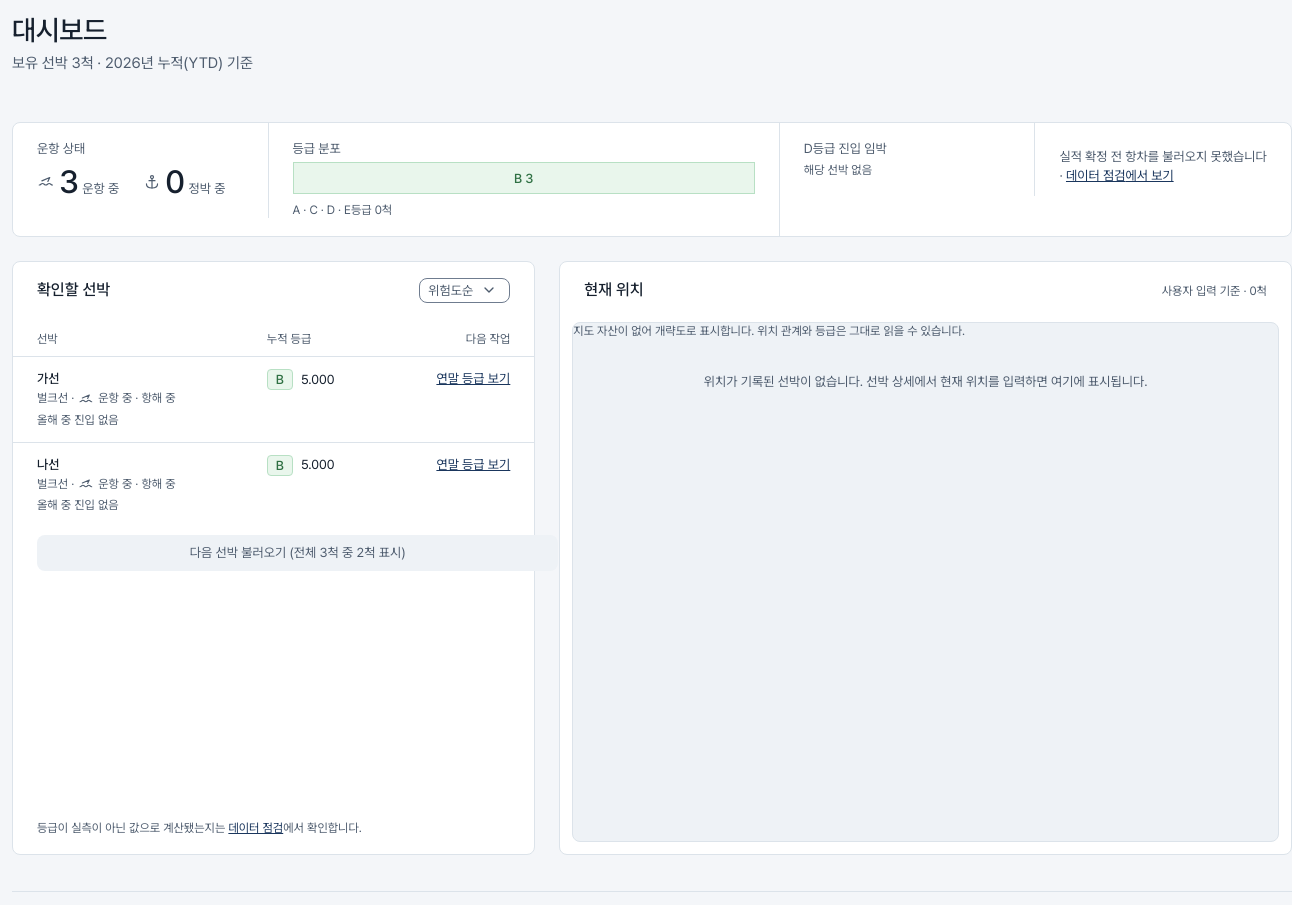
정렬 변경 · 추가 조회 경합 (#1092) › ⓐ 정렬을 바꿔 첫 페이지를 다시 받는 동안 「다음 선박」이 잠긴다
Expected: the button "다음 선박 불러오기 (전체 3척 중 2척 표시)" is enabled, [37,535,558,571]
Select "이름순" in the dropdown with test id "fleet-sort" at (465, 290), box [419,278,510,303]
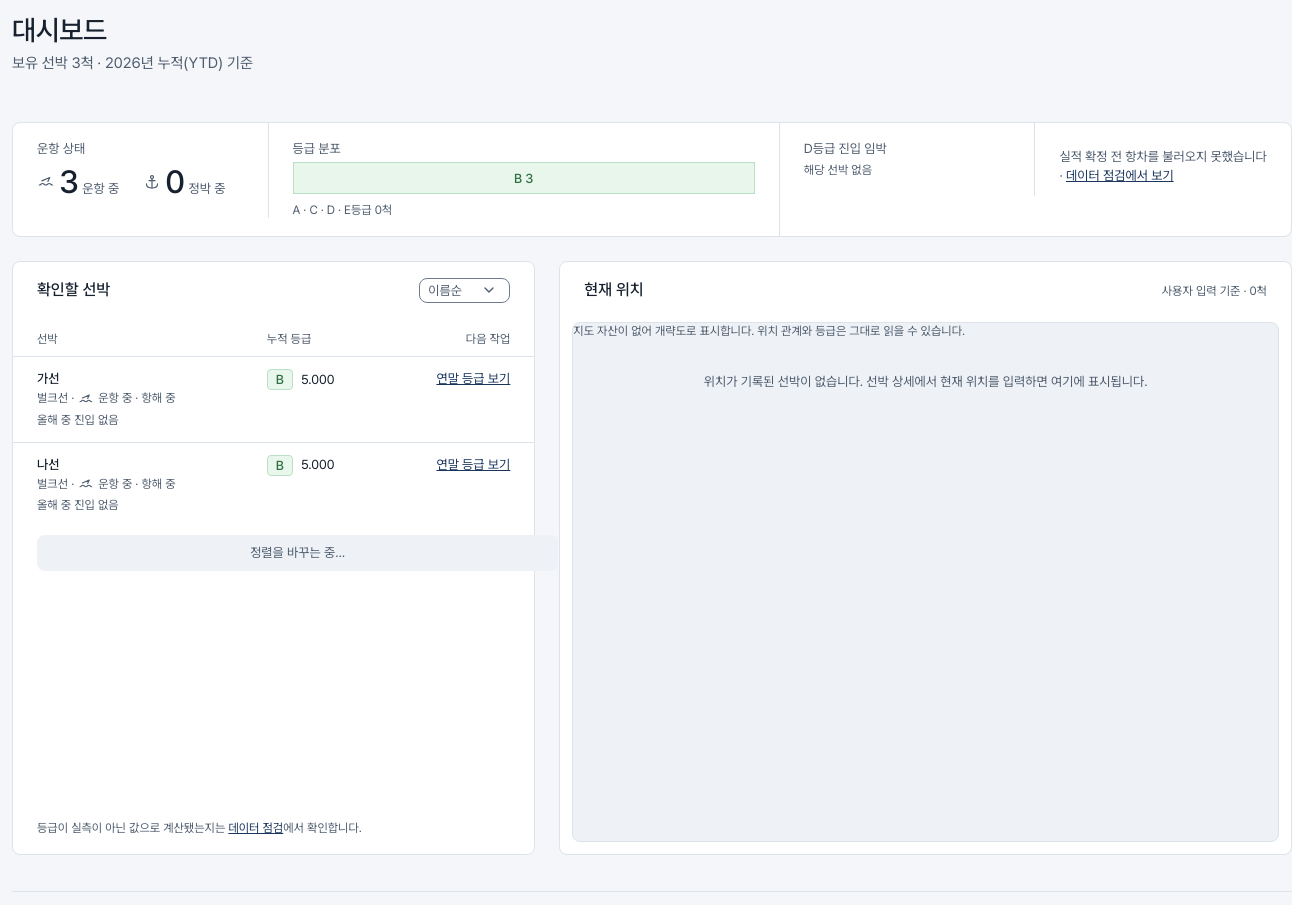
Expected: the button "정렬을 바꾸는 중…" is disabled
Click the button "정렬을 바꾸는 중…" at (298, 553), box [37,535,558,571]
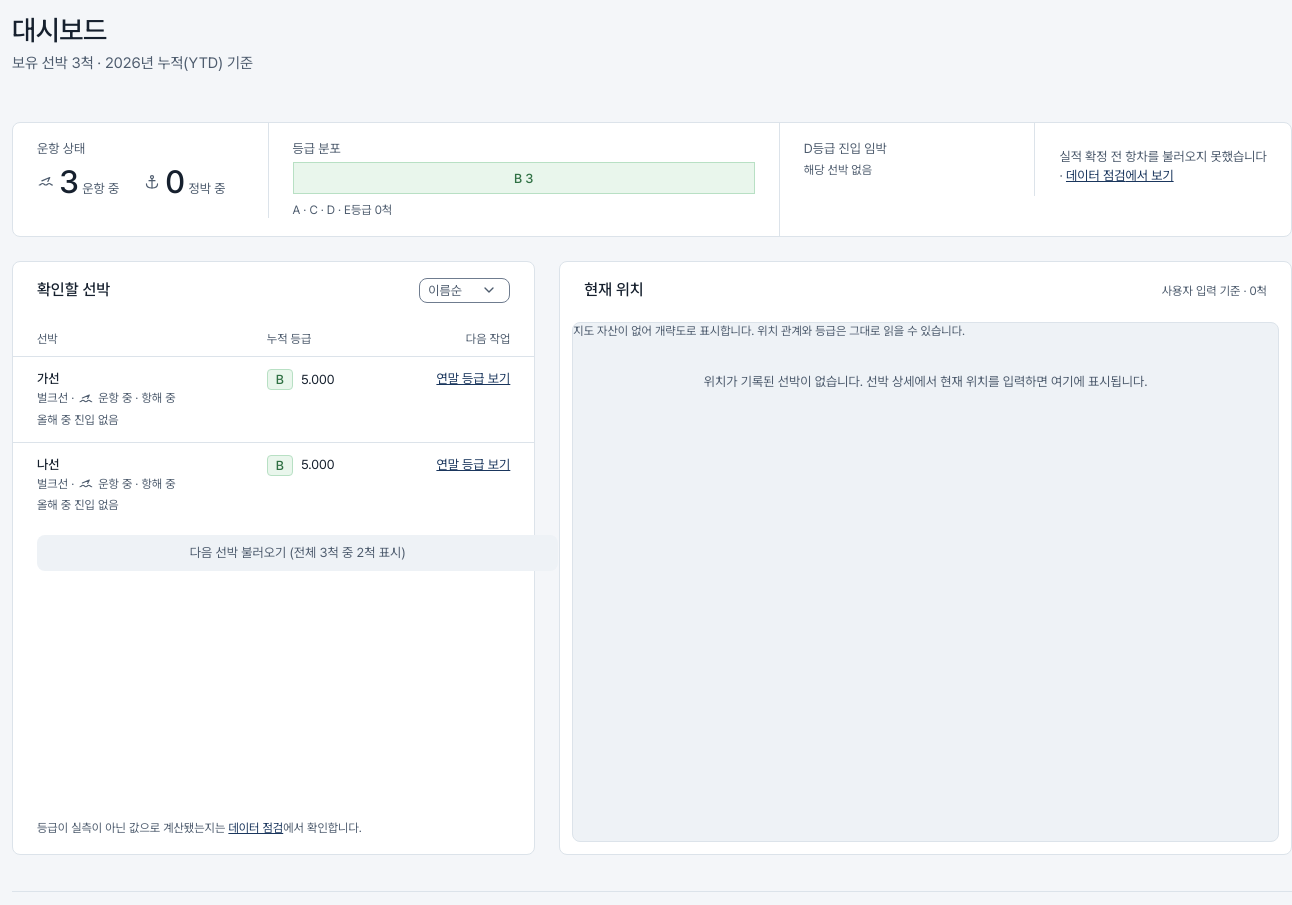
Expected: the button "다음 선박 불러오기 (전체 3척 중 2척 표시)" is shown, [37,535,558,571]
